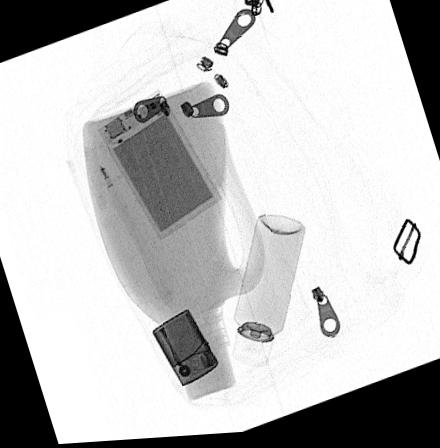Lighter: (151, 310, 219, 388)
Powerbank: (97, 90, 222, 241)
Sprayer: (230, 216, 306, 371)
